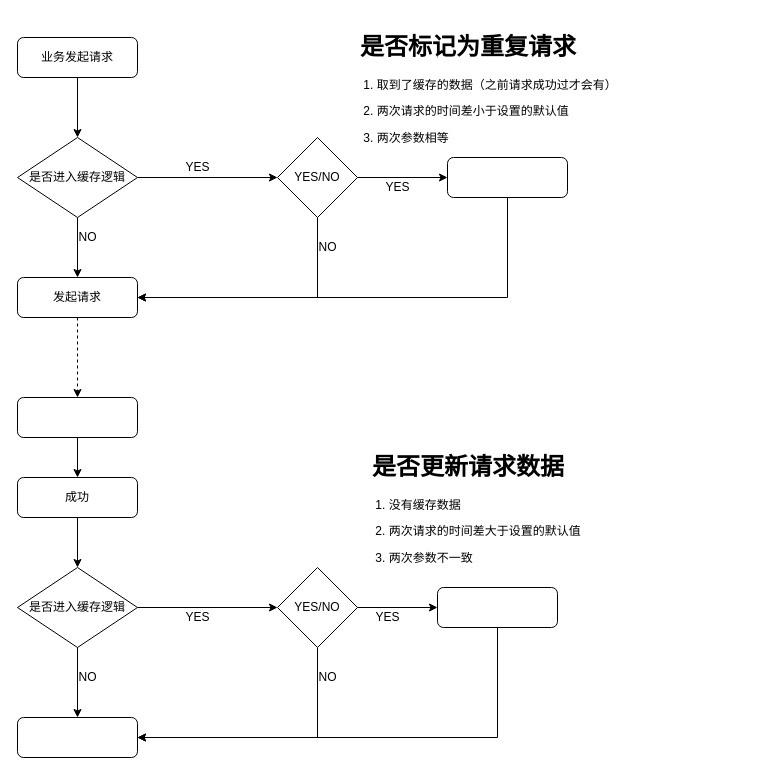
Image size: 765x775. Some labels were removed from this diagram. Each missing label, with the centre of its shape:
"回调业务" goes at point (77, 737).
"标记请求" goes at point (507, 177).
"结束" goes at point (77, 417).
"缓存/更新" goes at point (497, 607).
